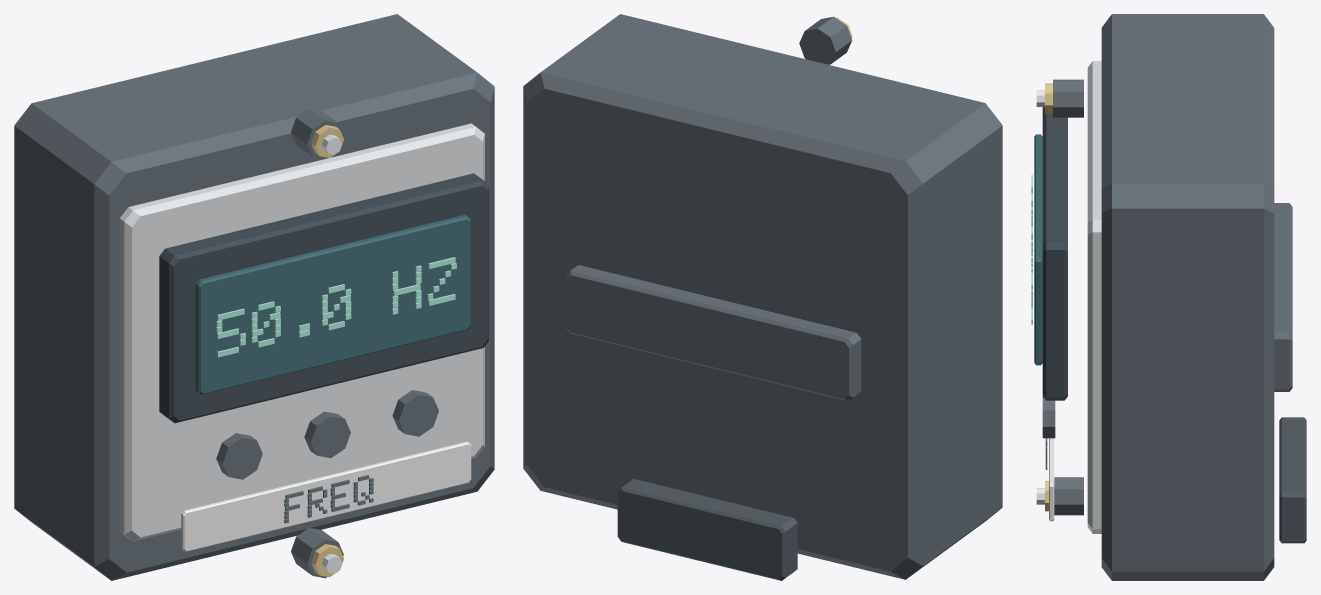
File: frequencyMeter.glb
The picture shows the model from 3 angles, left to right: view 1: azimuth 30°, elevation 25°; view 2: azimuth 150°, elevation 25°; view 3: azimuth 270°, elevation 25°; orthographic projection. The views are drawn at different scales.
Visible parts, largest first — view 1: frequencyMeter-board; view 2: frequencyMeter-board; view 3: frequencyMeter-board.
Boxes of the visible parts, x1,y1,x2,y2 form: frequencyMeter-board: (14,14,494,580); frequencyMeter-board: (523,14,1002,580); frequencyMeter-board: (1031,14,1306,580).
Bounding box in the file's own units: 2.08 × 2.27 × 1.31.
